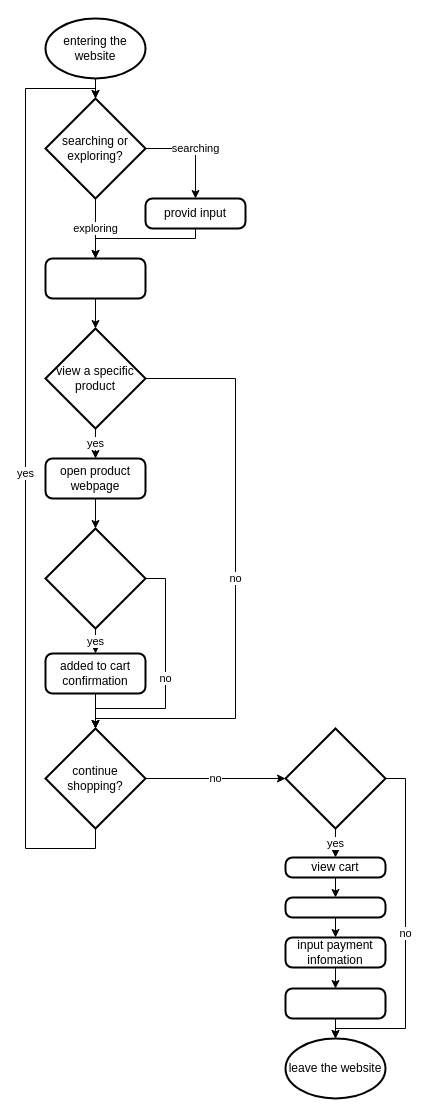
This 431x1116 diagram has some shape labels left out. The centre of each missing label's shape, as x and y in pixels:
"add to cart?" goes at point (95, 578).
"check out?" goes at point (335, 778).
"confirmation and email" goes at point (335, 1003).
"looking over the products" goes at point (95, 278).
"view payment" goes at point (335, 907).
